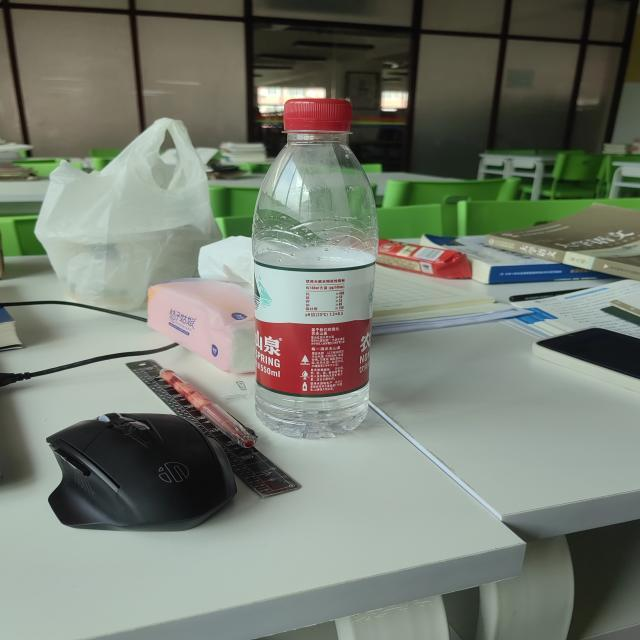good: (257, 99, 381, 442)
